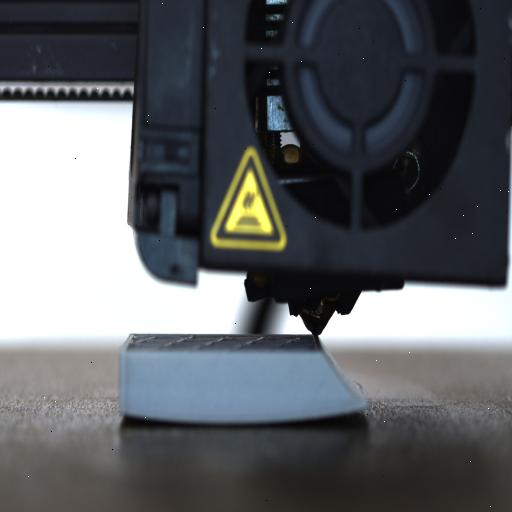warp: (298, 397, 374, 427), (110, 396, 164, 428)
